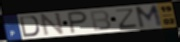B: (88, 9, 112, 33)
D: (19, 15, 41, 38)
M: (134, 4, 164, 29)
N: (40, 12, 65, 37)
P: (66, 10, 89, 34)
Z: (115, 7, 139, 30)
